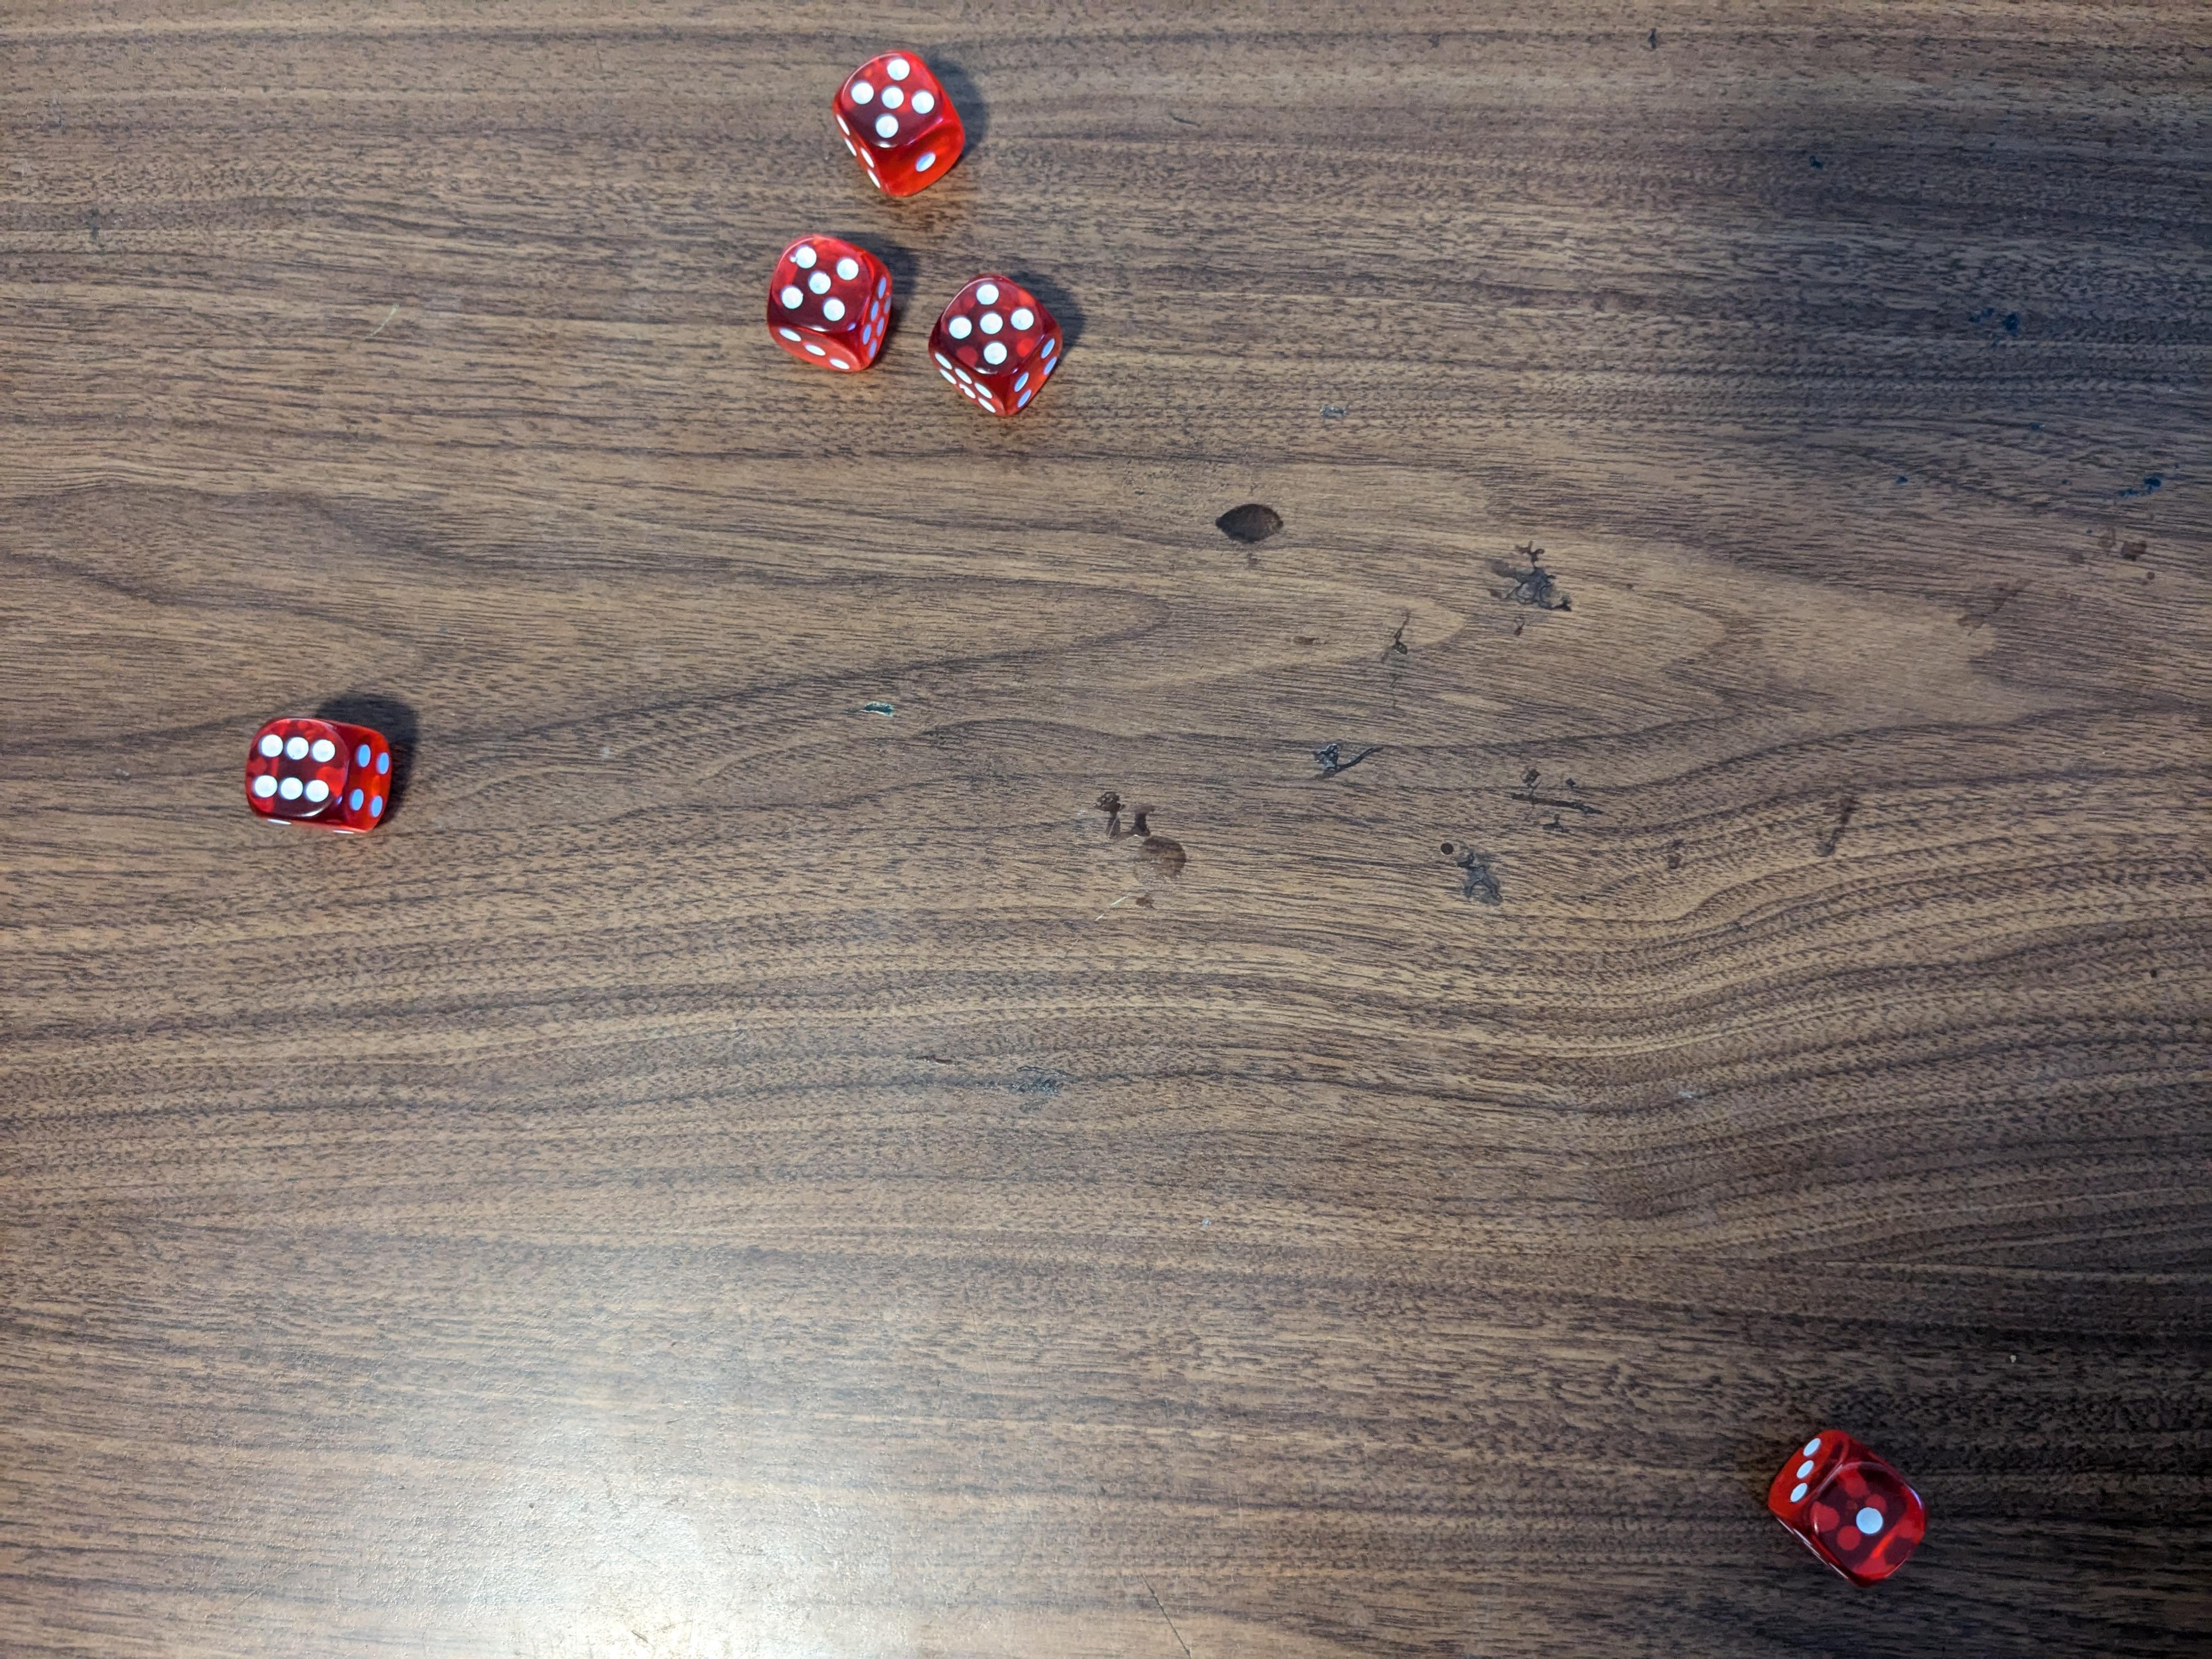five: (928, 272, 1071, 423), (834, 47, 977, 199), (765, 239, 902, 368)
one: (1763, 1422, 1928, 1588)
six: (242, 716, 404, 849)
